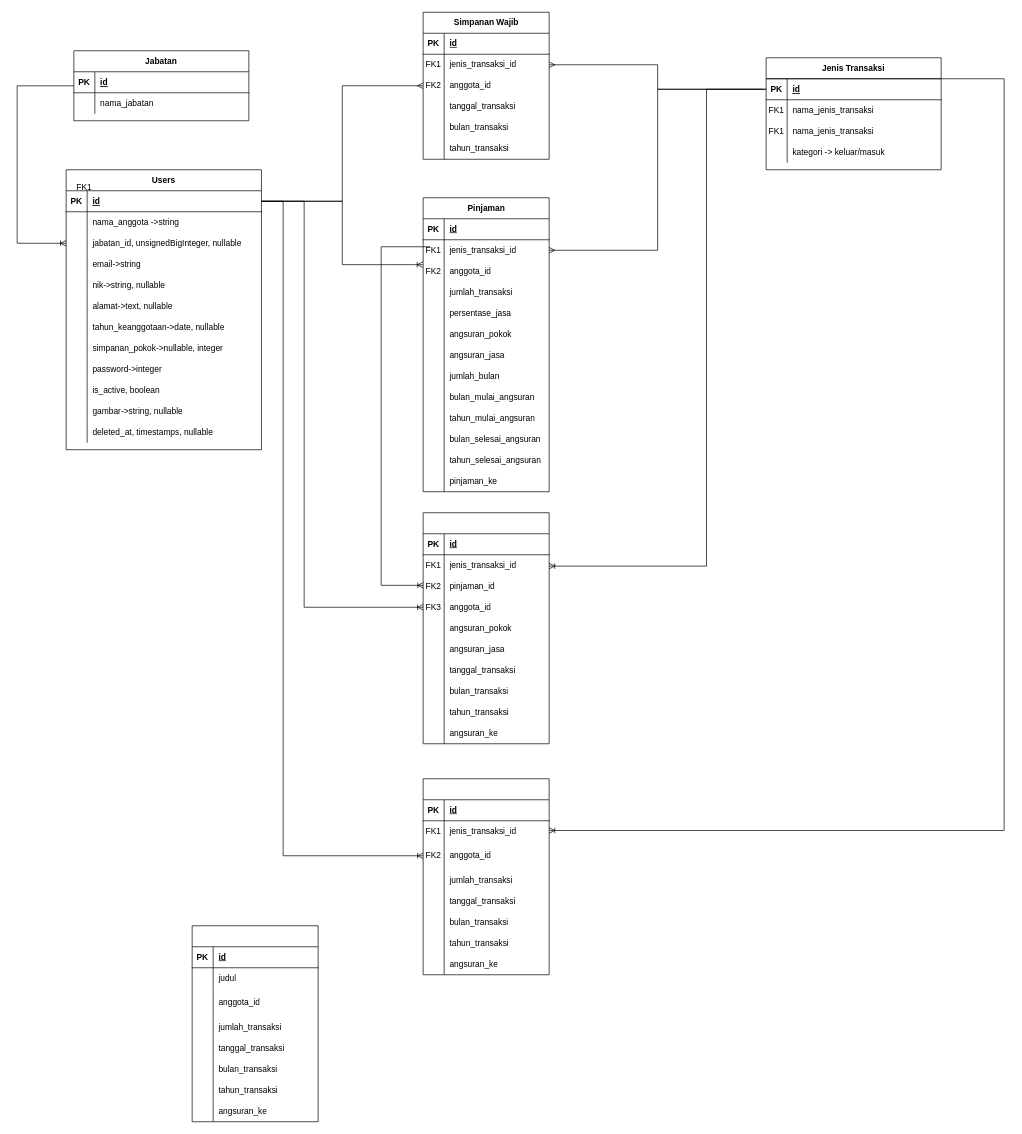
Image size: 1022x1134. Some labels were removed from this diagram. The box of each missing label's shape, as (x1, y1, x2, y2) in pixels:
Angsuran Pinjaman: (422, 512, 549, 744)
Berita Pengumuman: (191, 925, 318, 1122)
Transaksi Koperasi: (422, 778, 549, 975)
